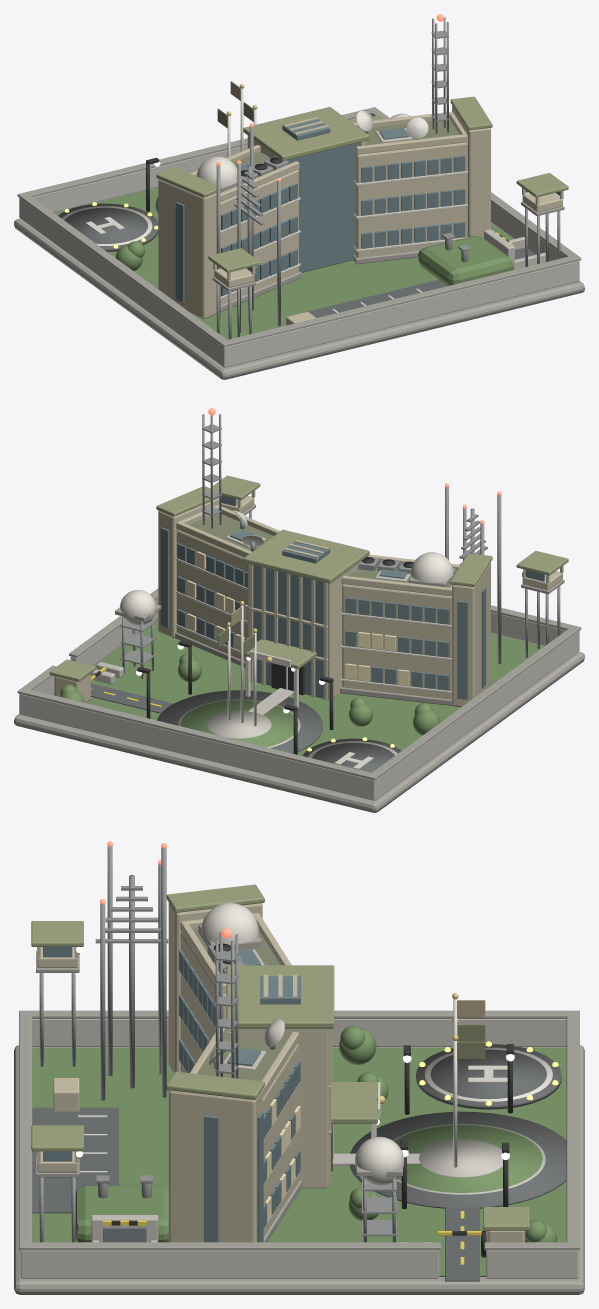
3 views of the same model, one above another, from view 1: azimuth 30°, elevation 25°; view 2: azimuth 150°, elevation 25°; view 3: azimuth 270°, elevation 25° (orthographic). The views are drawn at different scales.
Visible parts, largest first — view 1: Cube.001, Cube, Cube.190, Cube.025, Cube.161, Cube.151, Cube.192, Cube.173, Cube.094, Cube.188, Cube.223, Cube.082 (+22 smaller); view 2: Cube.001, Cube, Cube.188, Cube.094, Cube.161, Cube.192, Cube.025, Cube.173, Cube.151, Cube.189, Cylinder.001, Cylinder.003 (+31 smaller); view 3: Cube.001, Cube, Cube.196, Cube.082, Cube.192, Cylinder.001, Cube.172, Cube.173, Cube.002, Cylinder.003, Cube.197, Cylinder.031 (+39 smaller).
Part boxes in pixels (left/top/right/bottom): Cube.001: left=54, top=187, right=515, bottom=339; Cube: left=14, top=187, right=584, bottom=379; Cube.190: left=221, top=260, right=579, bottom=367; Cube.025: left=354, top=142, right=467, bottom=257; Cube.161: left=286, top=142, right=361, bottom=272; Cube.151: left=158, top=179, right=216, bottom=318; Cube.192: left=21, top=199, right=221, bottom=365; Cube.173: left=243, top=107, right=369, bottom=160; Cube.094: left=220, top=169, right=298, bottom=305; Cube.188: left=19, top=114, right=371, bottom=218; Cube.223: left=418, top=235, right=513, bottom=285; Cube.082: left=452, top=105, right=490, bottom=237; Cube.001: left=54, top=619, right=544, bottom=755; Cube: left=14, top=618, right=584, bottom=812; Cube.188: left=19, top=693, right=376, bottom=800; Cube.094: left=342, top=584, right=451, bottom=699; Cube.161: left=253, top=565, right=323, bottom=698; Cube.192: left=377, top=632, right=577, bottom=798; Cube.025: left=176, top=529, right=247, bottom=661; Cube.173: left=243, top=529, right=369, bottom=583; Cube.151: left=452, top=562, right=490, bottom=706; Cube.189: left=17, top=689, right=379, bottom=780; Cylinder.001: left=157, top=690, right=322, bottom=753; Cylinder.003: left=180, top=700, right=298, bottom=747; Cube.001: left=32, top=1047, right=566, bottom=1276; Cube: left=14, top=1045, right=584, bottom=1294; Cube.196: left=27, top=1250, right=439, bottom=1278; Cube.082: left=168, top=1090, right=262, bottom=1242; Cube.192: left=32, top=1019, right=566, bottom=1046; Cylinder.001: left=349, top=1111, right=566, bottom=1208; Cube.172: left=234, top=1028, right=328, bottom=1188; Cube.173: left=226, top=965, right=334, bottom=1028; Cube.002: left=32, top=1107, right=118, bottom=1213; Cylinder.003: left=394, top=1125, right=542, bottom=1192; Cube.197: left=25, top=1242, right=440, bottom=1250; Cylinder.031: left=430, top=1049, right=546, bottom=1099.
Bounding box in the file's own units: 3.92 × 2.45 × 3.92.
